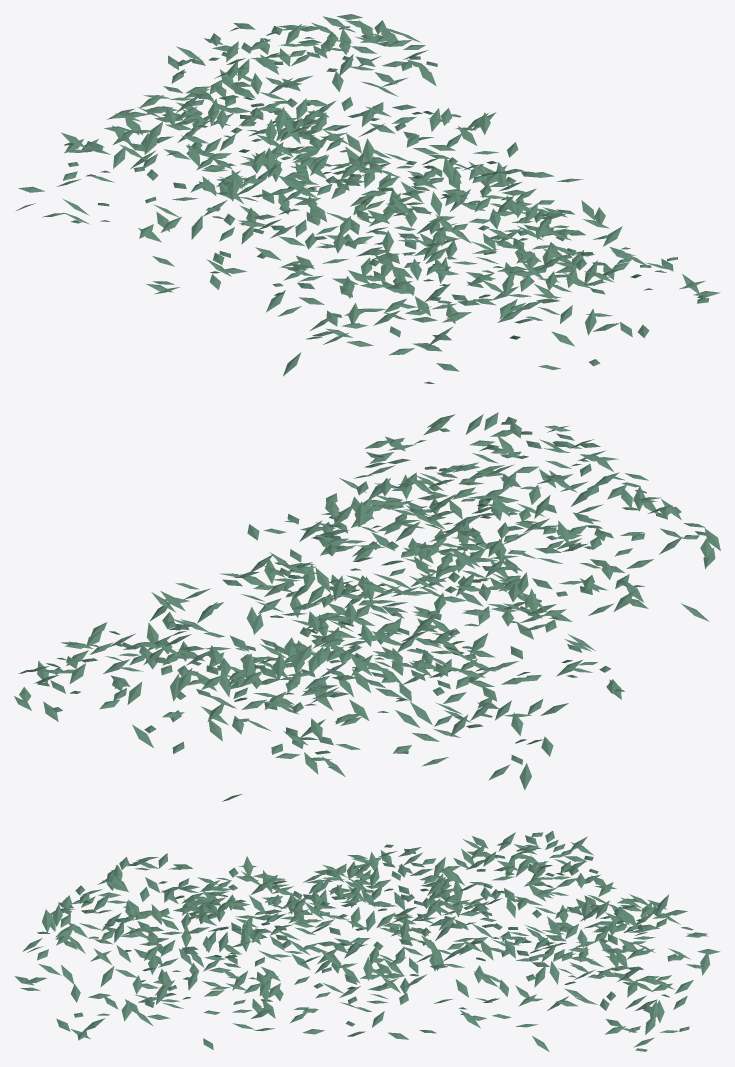
The model's file is xiyuan-vegetation-31-near.glb.
3 views of the same model, one above another, from view 1: azimuth 30°, elevation 25°; view 2: azimuth 150°, elevation 25°; view 3: azimuth 270°, elevation 25° (orthographic). The views are drawn at different scales.
Visible parts, largest first — view 1: shrubs.001; view 2: shrubs.001; view 3: shrubs.001.
Boxes of the visible parts, box(x1,y1,x2,y2) form: shrubs.001: box(16, 14, 720, 383); shrubs.001: box(14, 412, 720, 801); shrubs.001: box(14, 831, 720, 1052).
Size of the model in its own units: 5.09 by 1.2 by 7.77.
